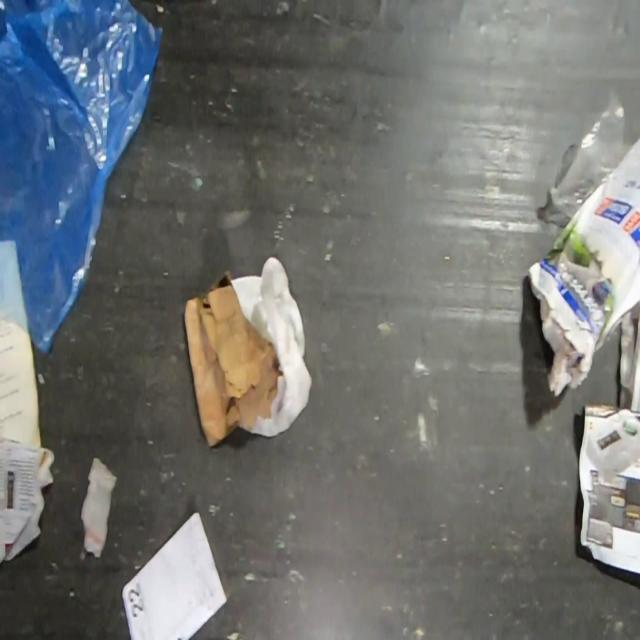cardboard: (528, 136, 640, 396), (184, 256, 312, 447)
soft_plastic: (550, 89, 636, 225)
